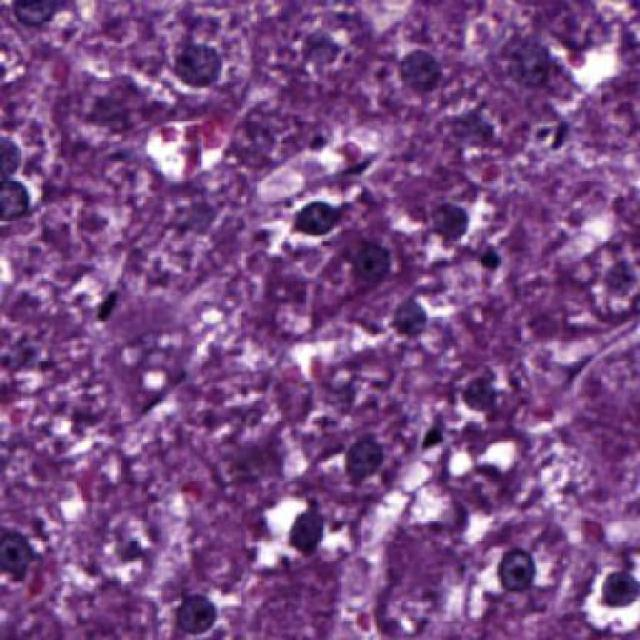inflammation: (337, 426, 388, 490), (492, 548, 546, 603), (386, 291, 432, 346), (283, 508, 332, 556), (174, 592, 222, 637), (430, 202, 478, 242), (296, 200, 338, 239)
